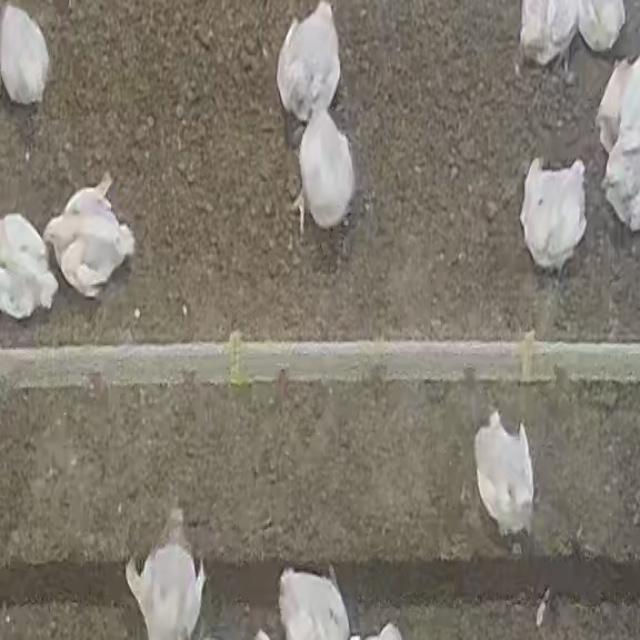chicken: (41, 172, 137, 302), (468, 407, 540, 542), (519, 156, 592, 281), (288, 108, 358, 235), (276, 0, 343, 121)
